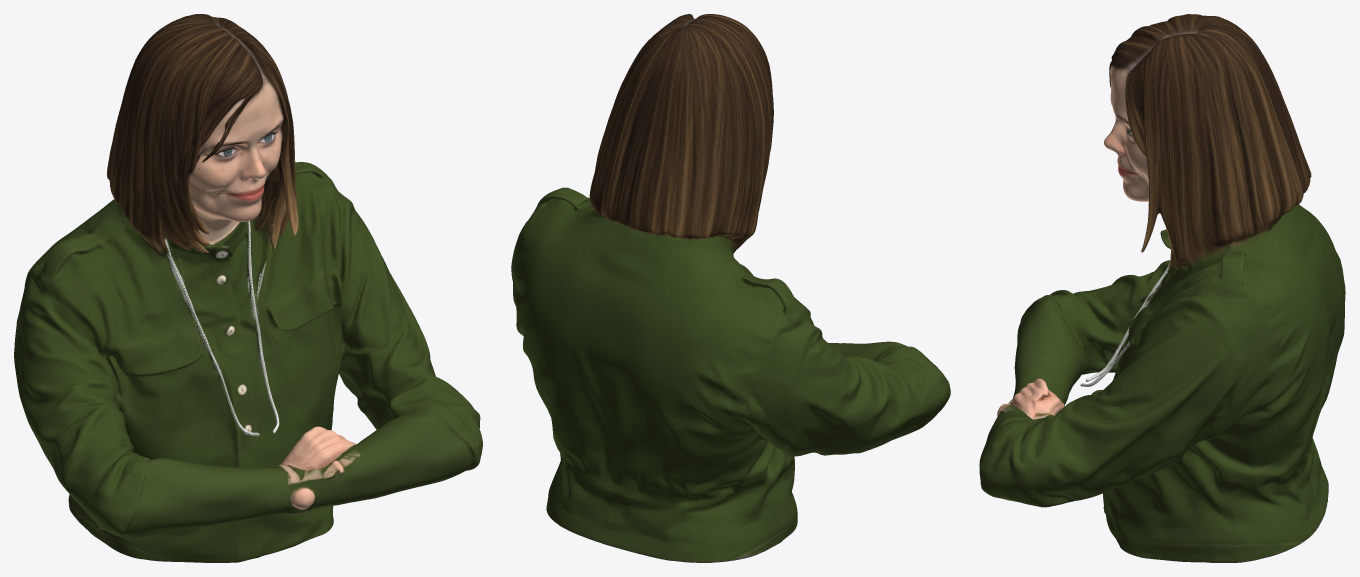
Rendered from katri-n-jakobsdo-ttir.glb.
3 views of the same model, side by side, from view 1: azimuth 30°, elevation 25°; view 2: azimuth 150°, elevation 25°; view 3: azimuth 270°, elevation 25° (orthographic). The views are drawn at different scales.
Bounding box in the file's own units: 1.46 × 1.9 × 1.29.
1 material, 1 textured.
